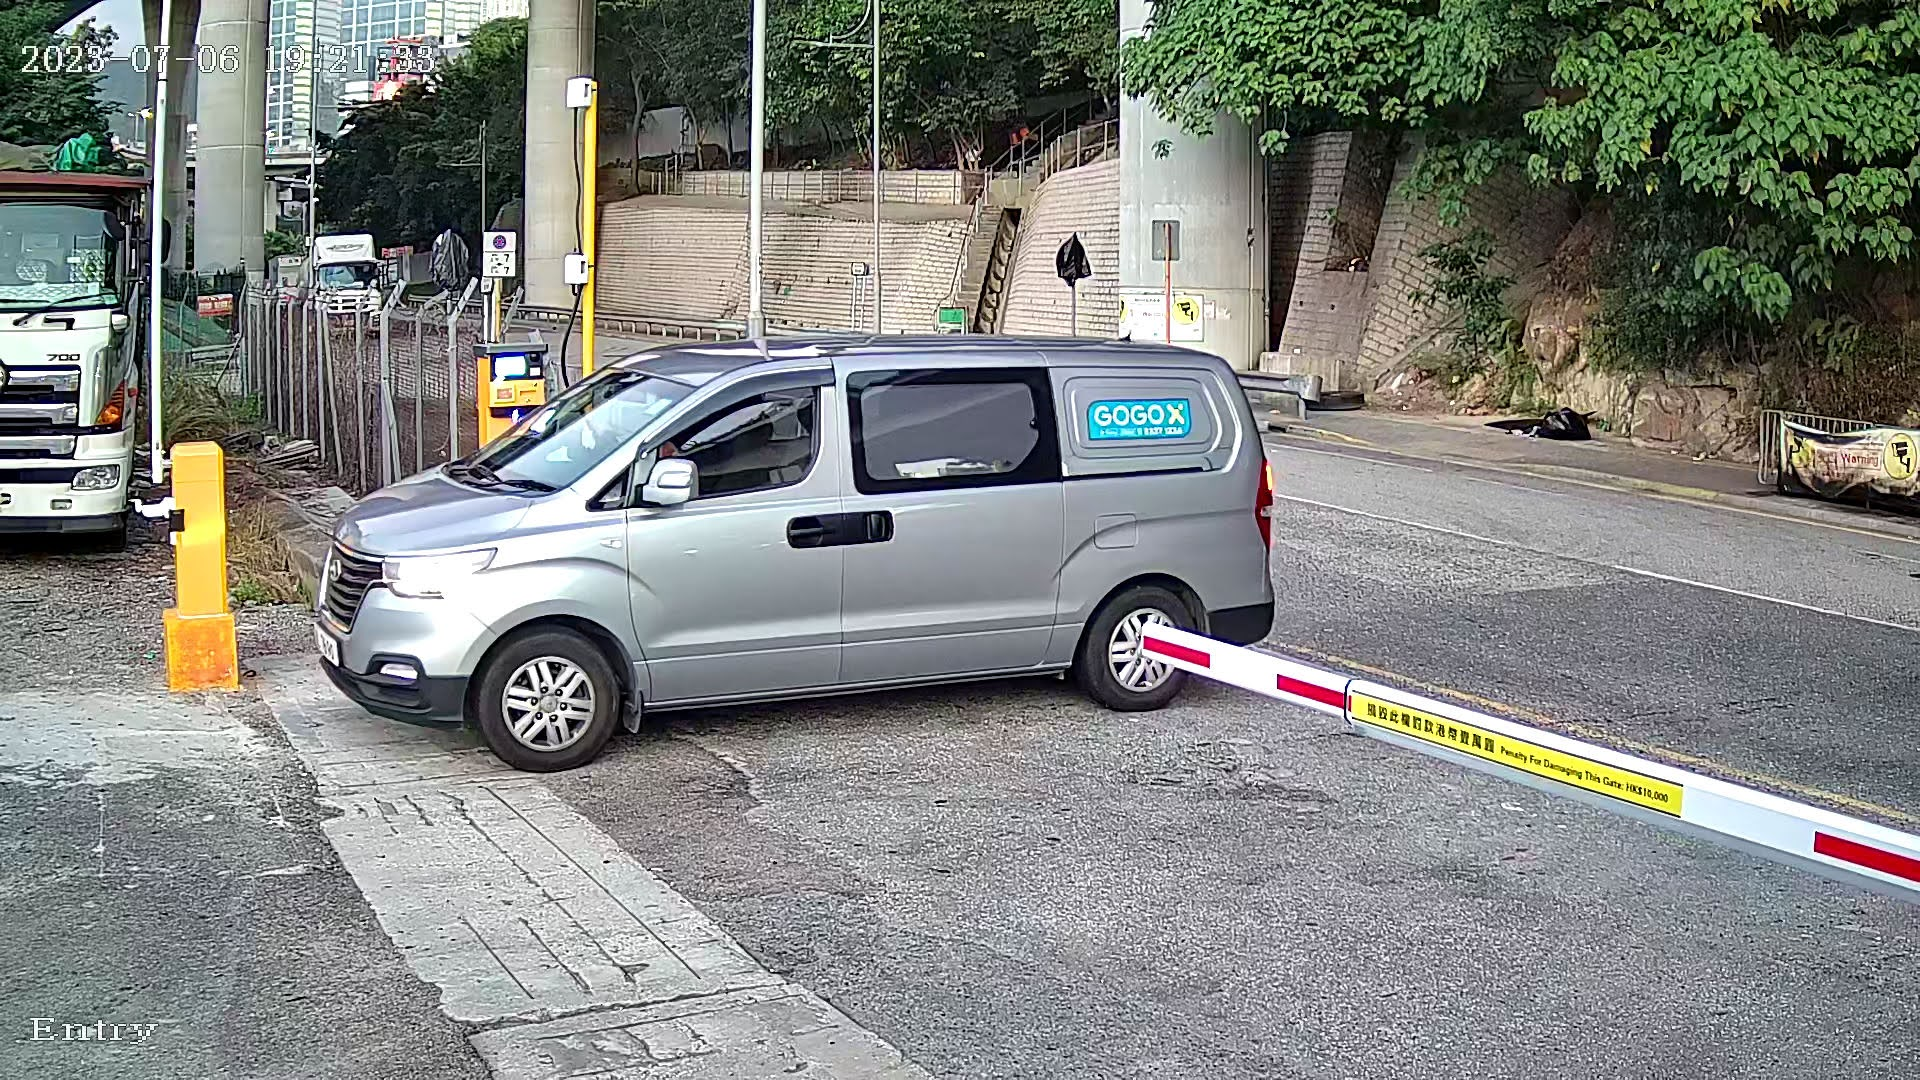privatecar: (269, 276, 1304, 802)
